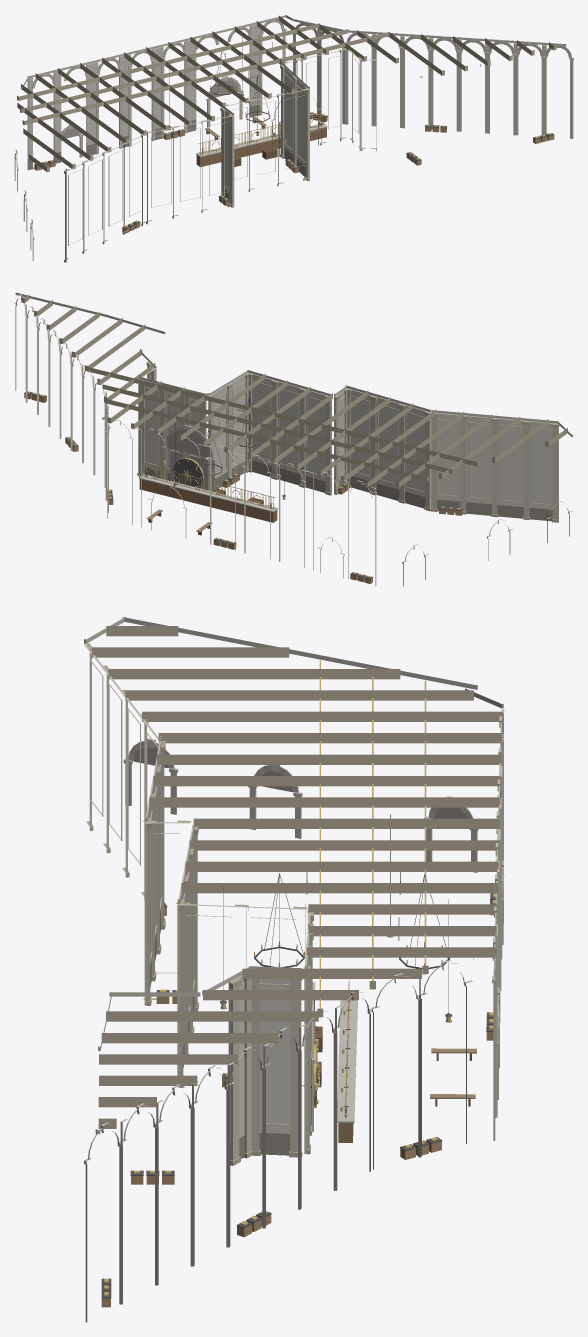
Rendered from interior_b081.glb.
3 renders of one model, top to bottom at view 1: azimuth 30°, elevation 25°; view 2: azimuth 150°, elevation 25°; view 3: azimuth 270°, elevation 25°, orthographic. The views are drawn at different scales.
Parts seen in each view (by area): view 1: Interior_B081_mesh; view 2: Interior_B081_mesh; view 3: Interior_B081_mesh.
Boxes of the visible parts, x1,y1,x2,y2 form: Interior_B081_mesh: [14, 15, 573, 262]; Interior_B081_mesh: [14, 292, 573, 586]; Interior_B081_mesh: [84, 617, 504, 1322].
Size of the model in its own units: 59.26 by 10.29 by 20.38.
